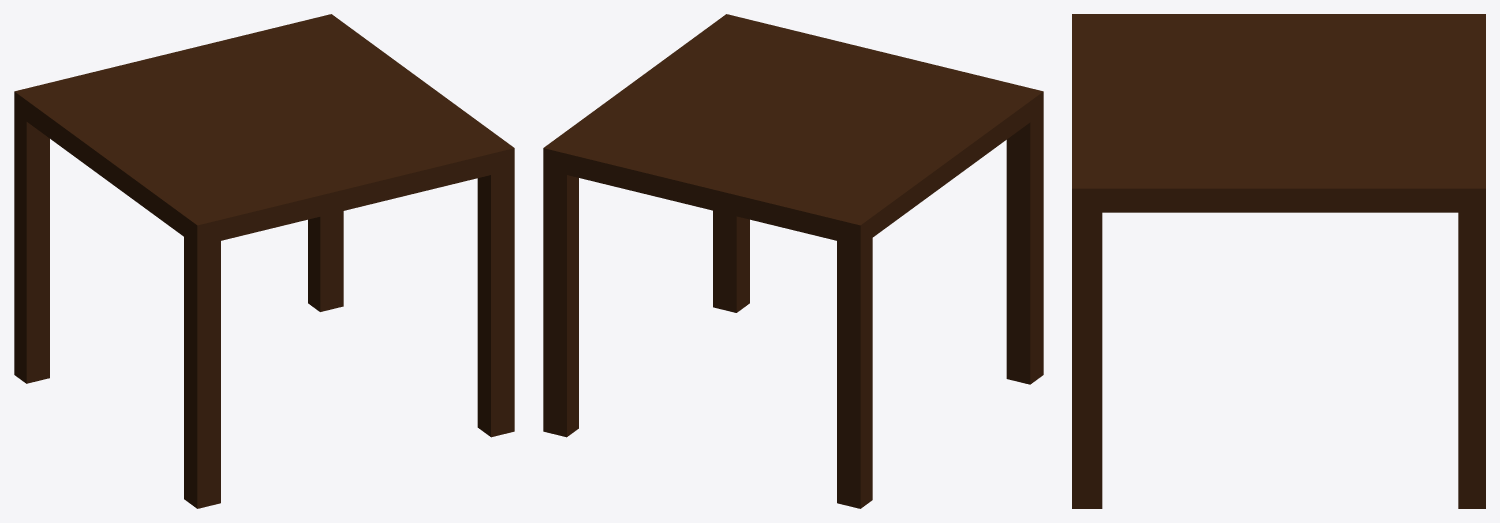
Rendered from Mesa.fbx.
The picture shows the model from 3 angles, left to right: view 1: azimuth 30°, elevation 25°; view 2: azimuth 150°, elevation 25°; view 3: azimuth 270°, elevation 25°; orthographic projection. The views are drawn at different scales.
Visible parts, largest first — view 1: Cube; view 2: Cube; view 3: Cube.
Part boxes in pixels (left/top/right/bottom): Cube: left=14, top=14, right=514, bottom=508; Cube: left=543, top=14, right=1043, bottom=508; Cube: left=1072, top=14, right=1485, bottom=508.
Size of the model in its own units: 735 by 627 by 735.
